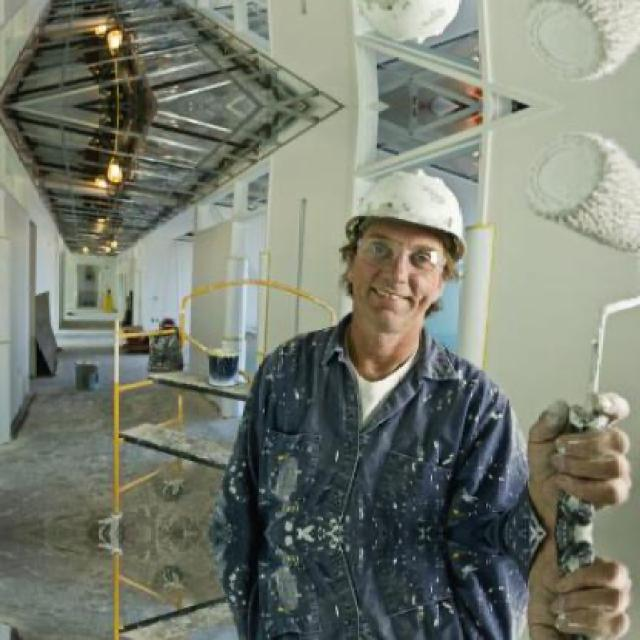con casco: (333, 188, 478, 369)
